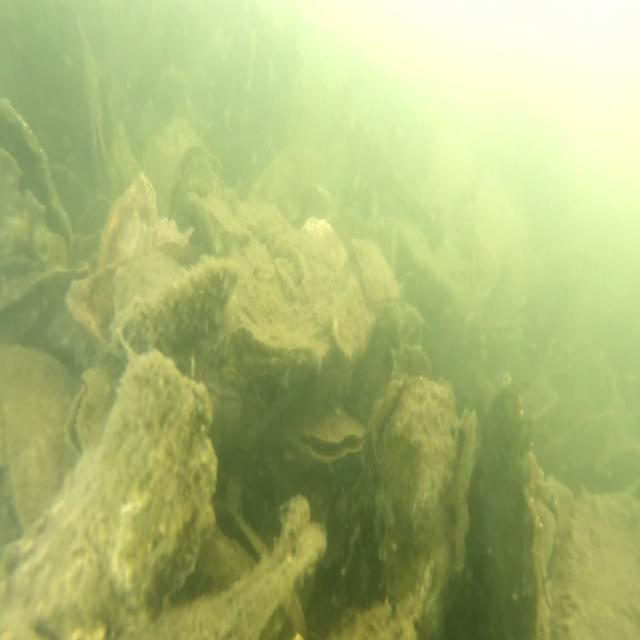Oyster-Closed: (213, 239, 369, 398), (0, 344, 84, 539)
Oyster-Indeterminate: (0, 348, 217, 640), (371, 370, 474, 640), (462, 378, 545, 640), (548, 490, 640, 640), (108, 266, 235, 352), (170, 143, 226, 257), (96, 172, 157, 266)
Oyster-Open: (208, 499, 305, 640), (0, 93, 74, 274), (283, 400, 368, 467), (62, 366, 120, 456)
